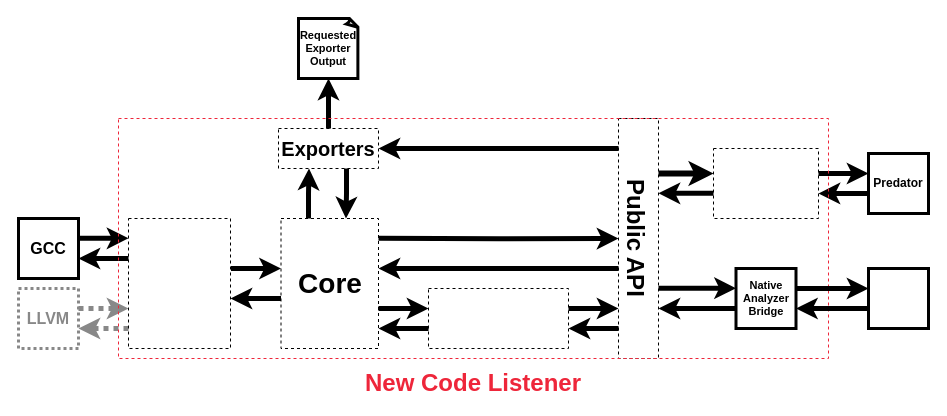
This 947x416 diagram has some shape labels left out. The shapes that lost their labels are listed below. From the top down, each one's box as (x1, y1, x2, y2) in pixels, then its label:
(712, 148, 818, 218): Predator Compatibility Layer
(128, 218, 230, 348): Compiler Abstraction Layer
(866, 266, 930, 330): Recursion check
(428, 288, 568, 348): Annotation Services
